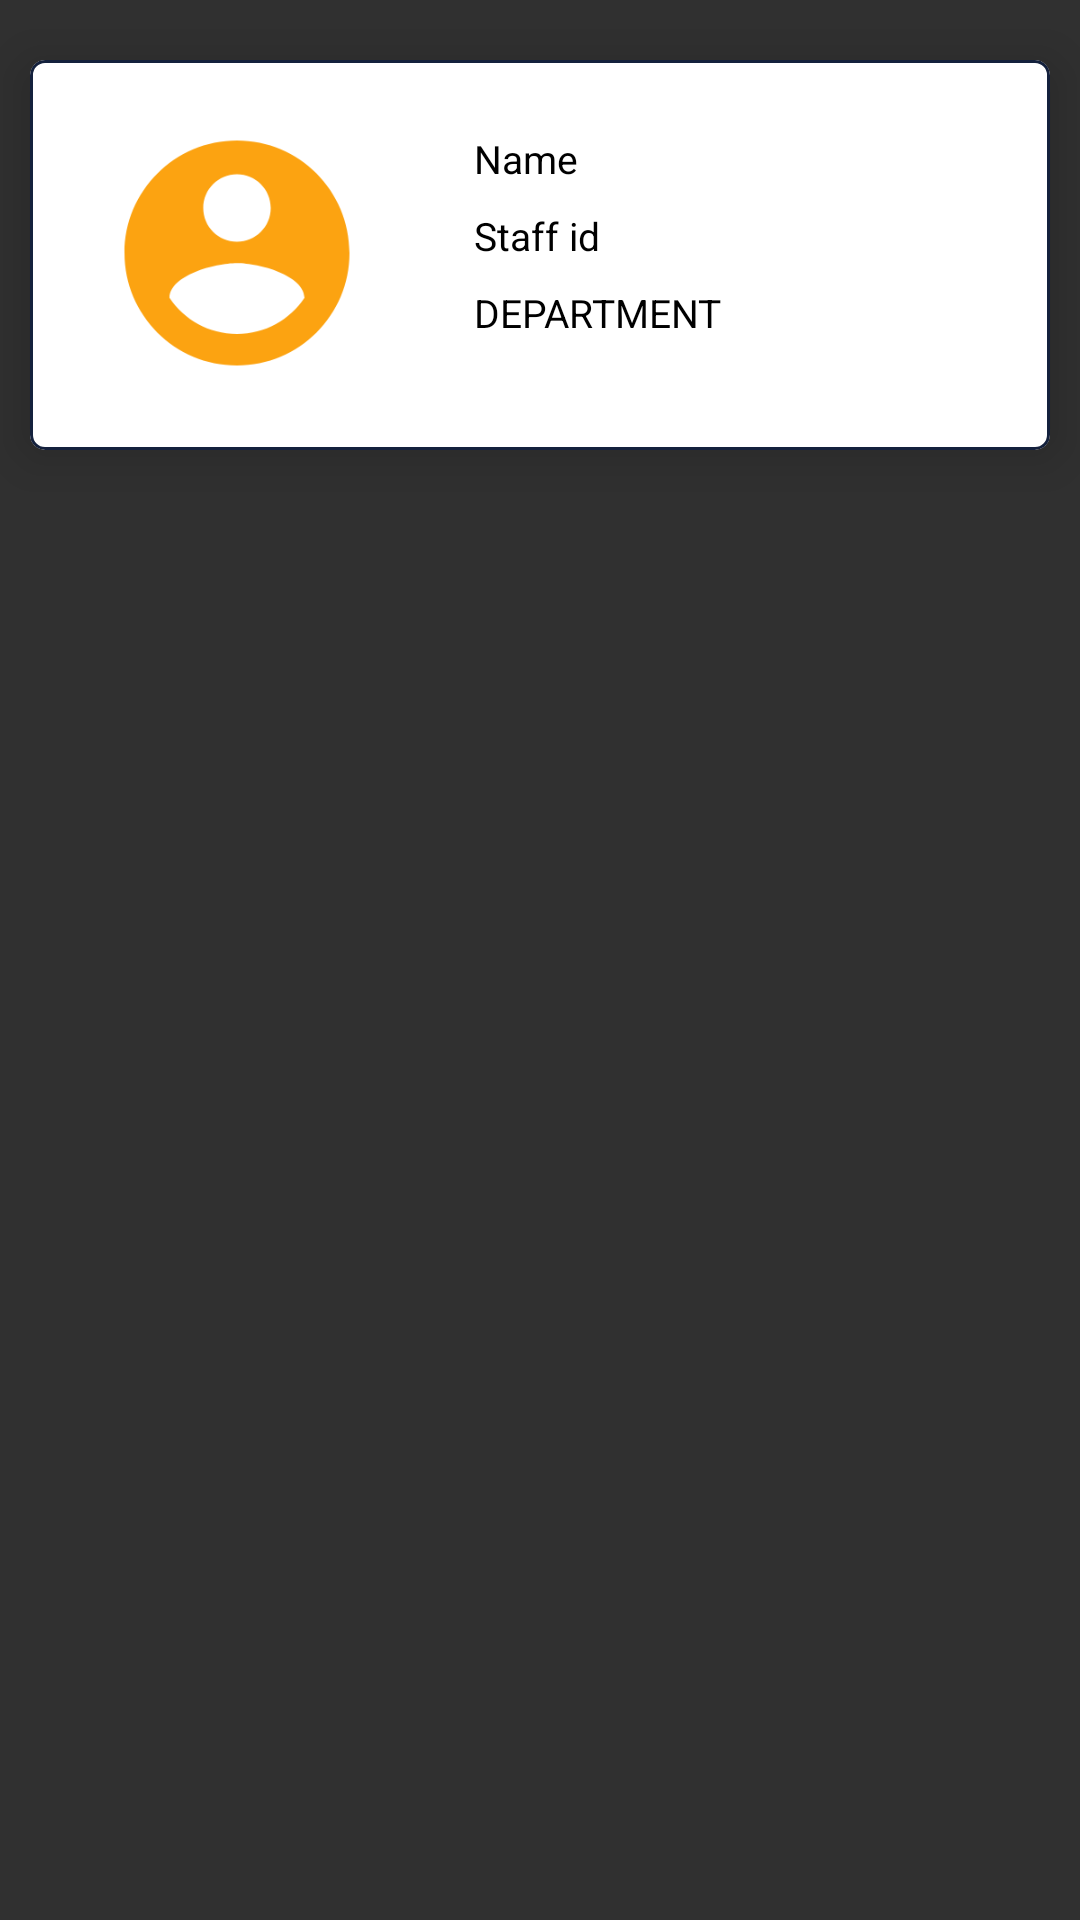

Where icons sit on this 1080*1920 app screen, as (x1, y1, x2, y2):
account circle setting: (124, 140, 350, 366)
